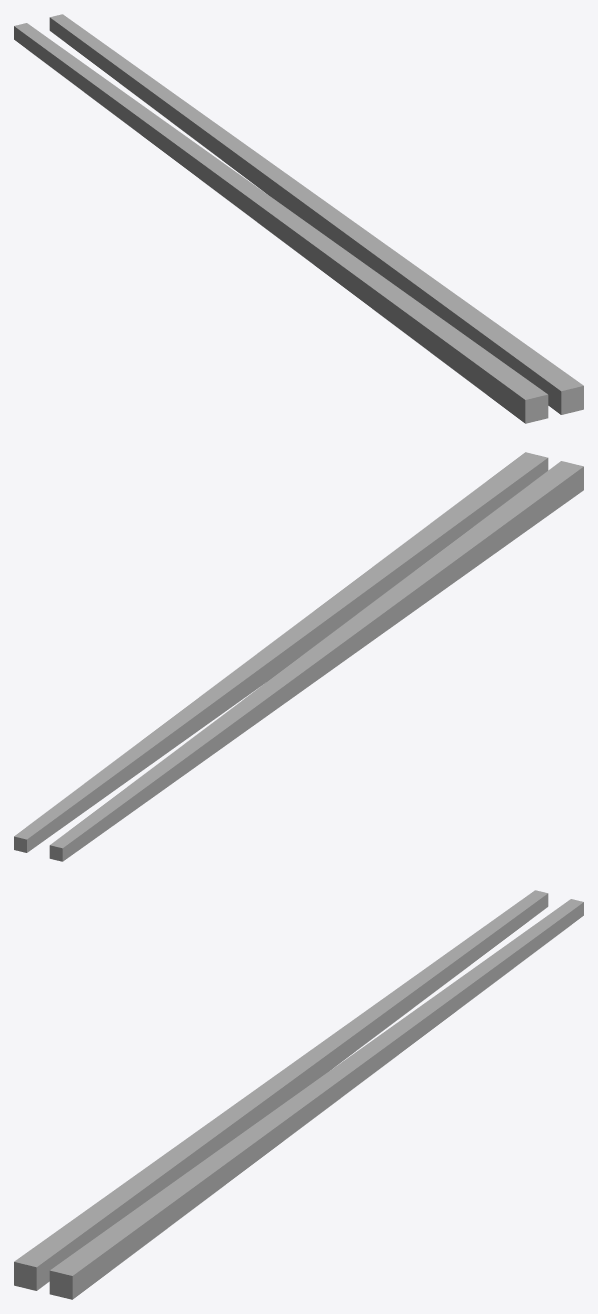
Rendered from Itr_Obj_Chopsticks_02.FBX.
3 renders of one model, top to bottom at view 1: azimuth 30°, elevation 25°; view 2: azimuth 150°, elevation 25°; view 3: azimuth 330°, elevation 25°, orthographic.
Parts seen in each view (by area): view 1: Itr_Obj_Chopsticks_02; view 2: Itr_Obj_Chopsticks_02; view 3: Itr_Obj_Chopsticks_02.
Boxes of the visible parts, <box> form: Itr_Obj_Chopsticks_02: <box>14,14,583,423</box>; Itr_Obj_Chopsticks_02: <box>14,452,583,861</box>; Itr_Obj_Chopsticks_02: <box>14,890,583,1299</box>.
Size of the model in its own units: 0.286 by 0.1115 by 4.37.
